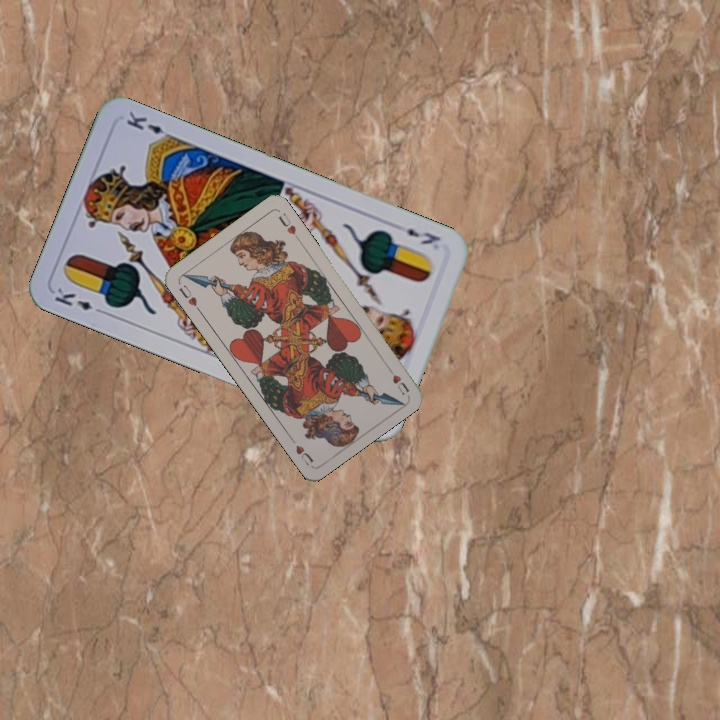EK: (50, 283, 108, 317), (402, 224, 443, 248)
HU: (383, 361, 412, 398), (175, 280, 203, 314)
